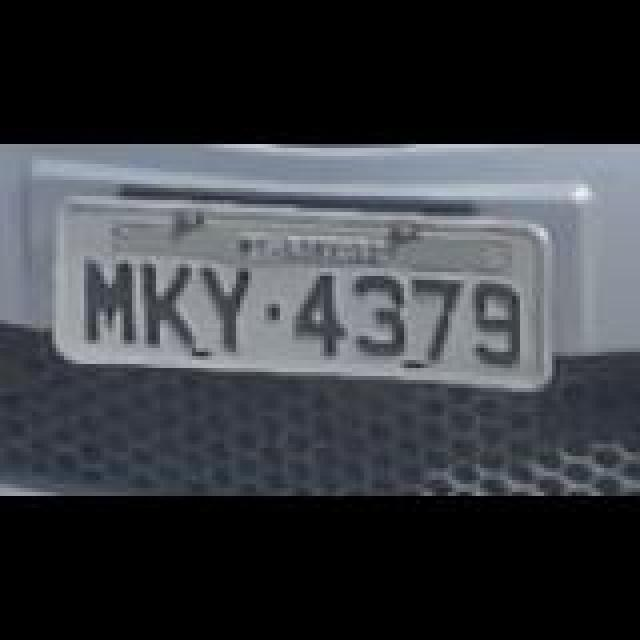3: (352, 274, 408, 358)
4: (292, 274, 348, 358)
7: (416, 278, 464, 362)
9: (470, 280, 522, 368)
K: (144, 264, 200, 352)
M: (86, 260, 138, 348)
Y: (204, 264, 260, 352)
